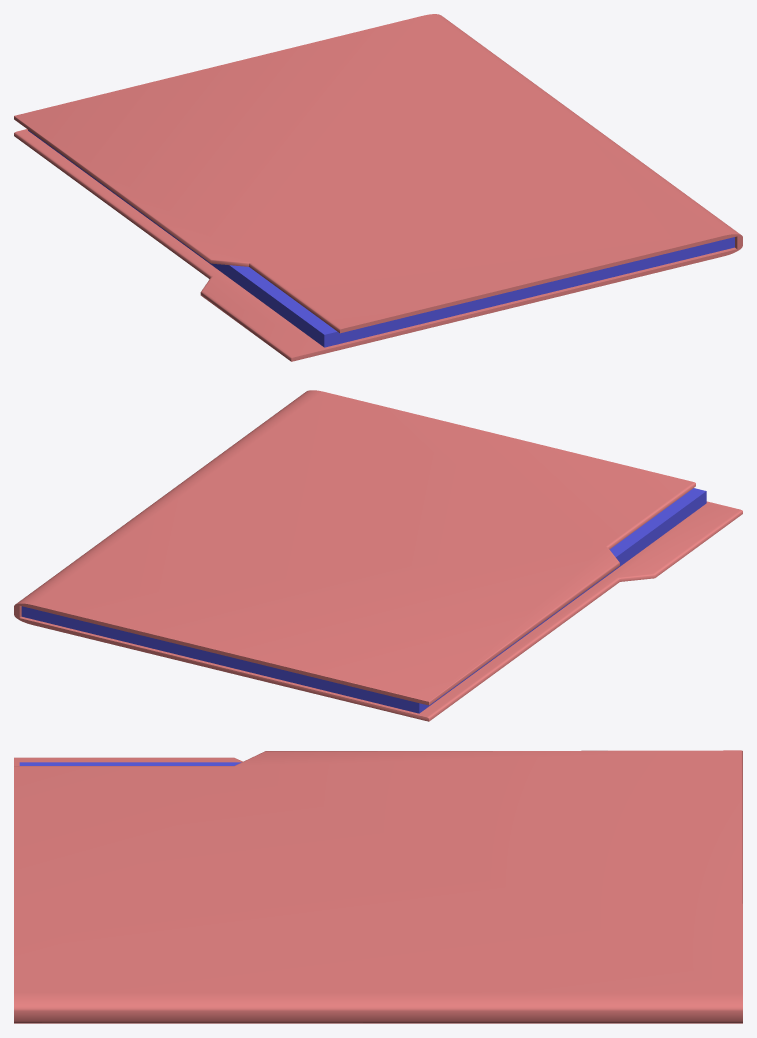
The model's file is S_Folder.fbx.
The picture shows the model from 3 angles, top to bottom: view 1: azimuth 30°, elevation 25°; view 2: azimuth 150°, elevation 25°; view 3: azimuth 270°, elevation 25°; orthographic projection. The views are drawn at different scales.
Parts seen in each view (by area): view 1: Cube.023; view 2: Cube.023; view 3: Cube.023.
Part boxes in pixels (x1,y1,x2,y2): Cube.023: (14, 14, 742, 361); Cube.023: (14, 390, 742, 721); Cube.023: (14, 750, 742, 1023).
Bounding box in the file's own units: 39.01 × 1.7 × 45.
